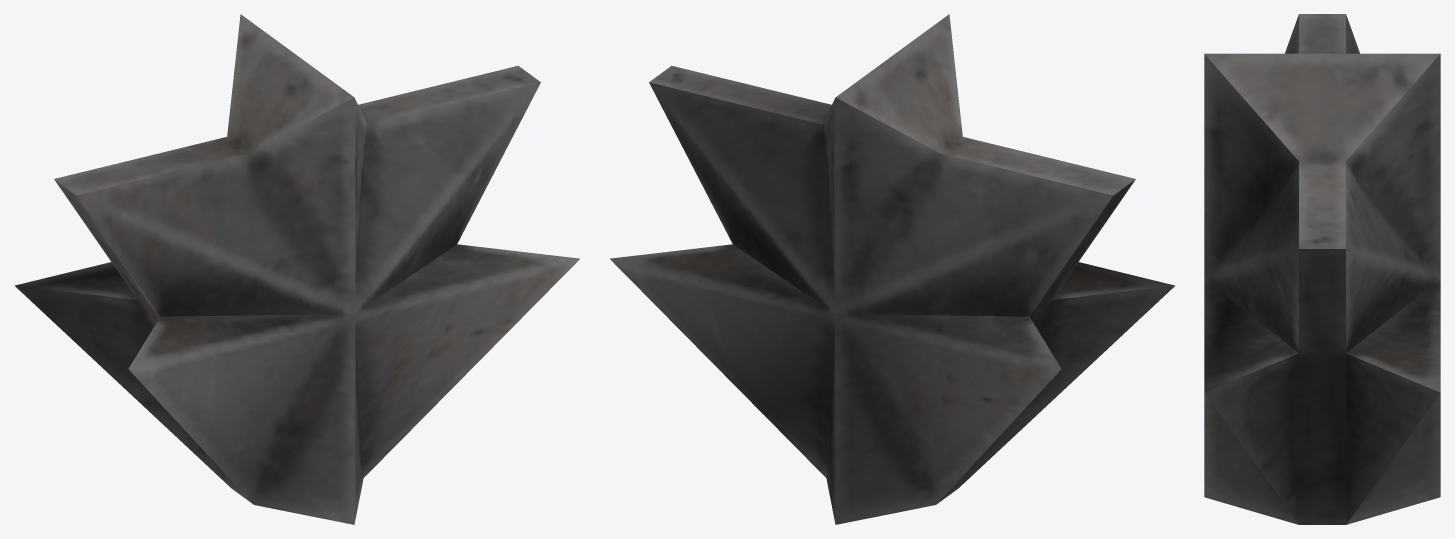
Rendered from sm_dwarf_erebor_spear_pommel_b.fbx.
3 views of the same model, side by side, from view 1: azimuth 30°, elevation 25°; view 2: azimuth 150°, elevation 25°; view 3: azimuth 270°, elevation 25° (orthographic). The views are drawn at different scales.
Parts seen in each view (by area): view 1: sm_dwarf_erebor_spear_pommel_b; view 2: sm_dwarf_erebor_spear_pommel_b; view 3: sm_dwarf_erebor_spear_pommel_b.
Boxes of the visible parts, x1,y1,x2,y2 form: sm_dwarf_erebor_spear_pommel_b: [15, 14, 579, 524]; sm_dwarf_erebor_spear_pommel_b: [610, 14, 1174, 524]; sm_dwarf_erebor_spear_pommel_b: [1204, 14, 1440, 524].
Size of the model in its own units: 0.1181 by 0.0502 by 0.1039.
1 material, 1 textured.
